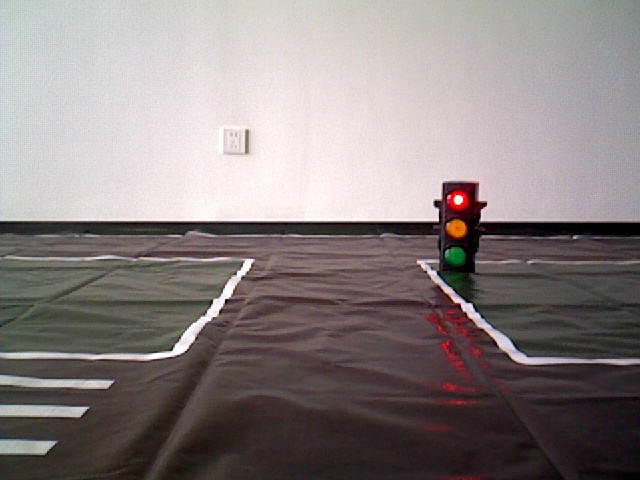red: (440, 182, 471, 271)
